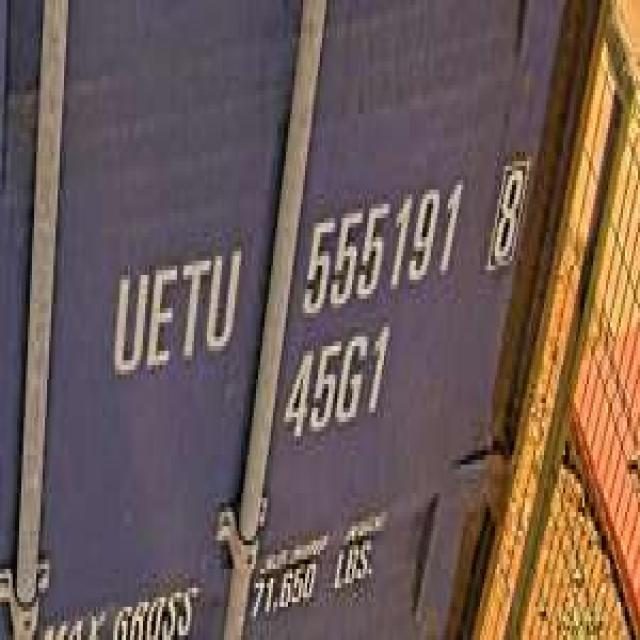dv: (486, 143, 529, 284)
owner: (102, 228, 244, 384)
serial: (296, 170, 469, 318)
size: (277, 322, 397, 450)
